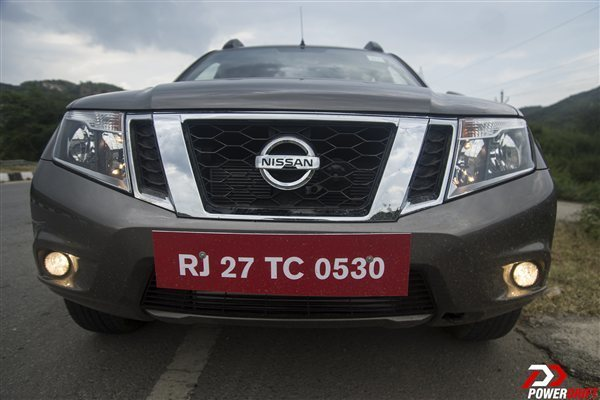number_plate: (150, 217, 417, 308)
